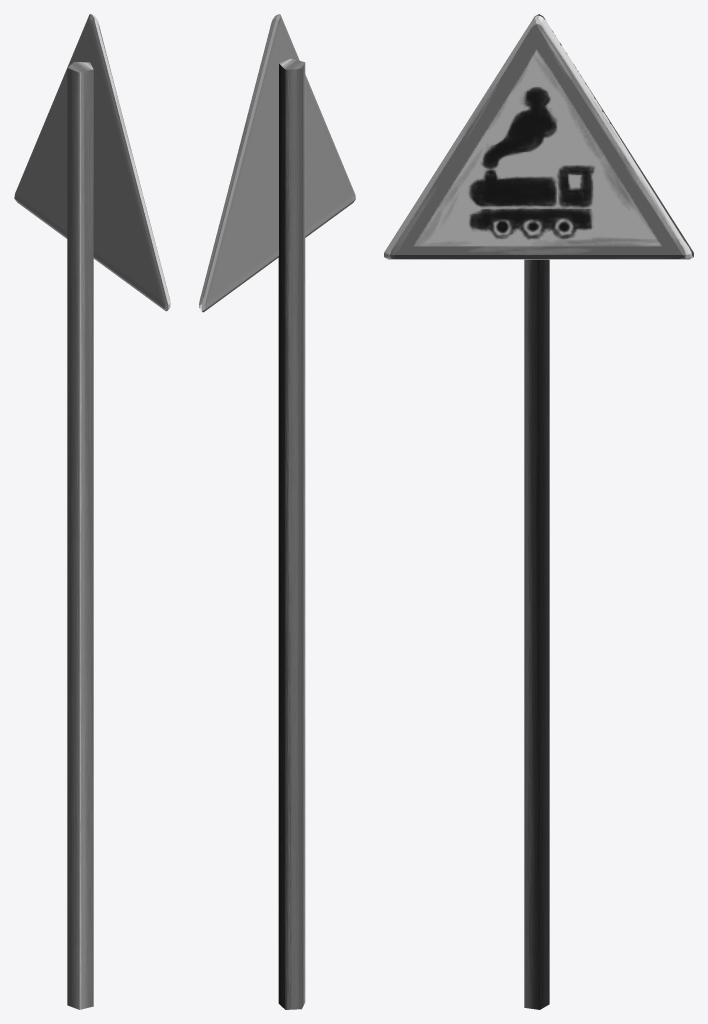
The model's file is sign_train.fbx.
3 views of the same model, side by side, from view 1: azimuth 30°, elevation 25°; view 2: azimuth 150°, elevation 25°; view 3: azimuth 270°, elevation 25° (orthographic).
Parts seen in each view (by area): view 1: Cylinder.002, Cylinder.004; view 2: Cylinder.002, Cylinder.004; view 3: Cylinder.004, Cylinder.002.
Part boxes in pixels (bbox=[...]): Cylinder.002: bbox=[67, 61, 93, 1009]; Cylinder.004: bbox=[14, 14, 170, 311]; Cylinder.002: bbox=[278, 59, 305, 1009]; Cylinder.004: bbox=[199, 14, 355, 312]; Cylinder.004: bbox=[384, 14, 693, 259]; Cylinder.002: bbox=[524, 259, 549, 1009].
Size of the model in its own units: 34.12 by 1038 by 293.
